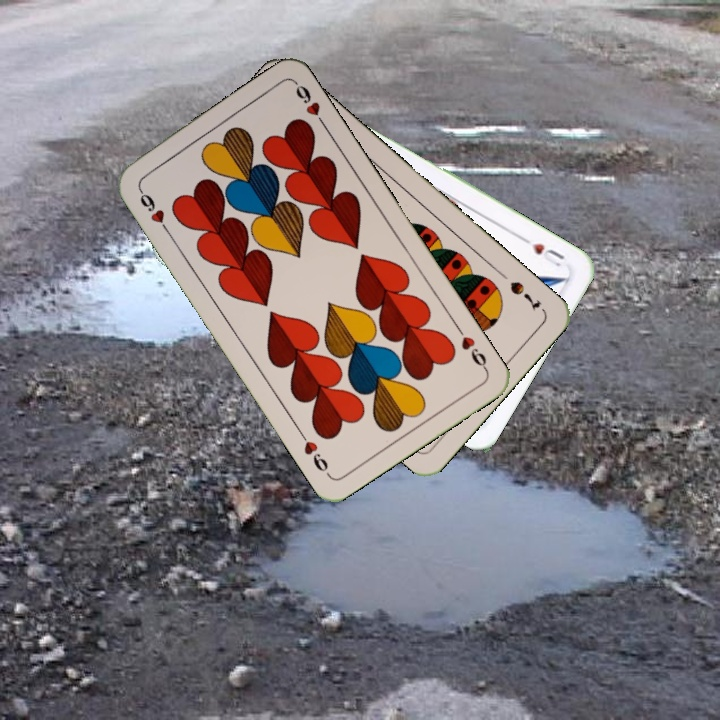H9: (134, 184, 173, 236), (452, 321, 490, 374)
HU: (517, 233, 568, 270)
S7: (505, 277, 544, 313)
